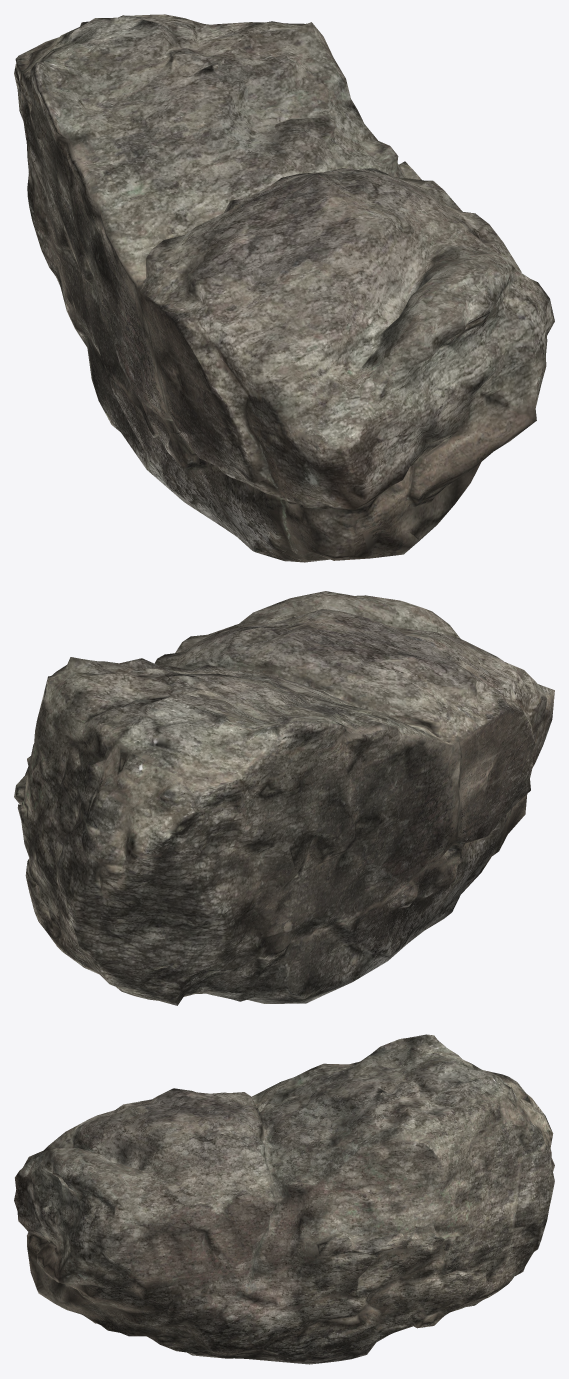
File: namaqualand_boulder_06.glb
3 renders of one model, top to bottom at view 1: azimuth 30°, elevation 25°; view 2: azimuth 150°, elevation 25°; view 3: azimuth 270°, elevation 25°, orthographic. The views are drawn at different scales.
Visible parts, largest first — view 1: namaqualand_boulder_06_LOD0; view 2: namaqualand_boulder_06_LOD0; view 3: namaqualand_boulder_06_LOD0.
Boxes of the visible parts, left/top/right/bottom form: namaqualand_boulder_06_LOD0: left=14, top=14, right=554, bottom=562; namaqualand_boulder_06_LOD0: left=14, top=591, right=554, bottom=1005; namaqualand_boulder_06_LOD0: left=14, top=1034, right=554, bottom=1364.
Size of what is drawn, in the model's own units: 0.672 by 0.6471 by 1.21.
1 material, 1 textured.
